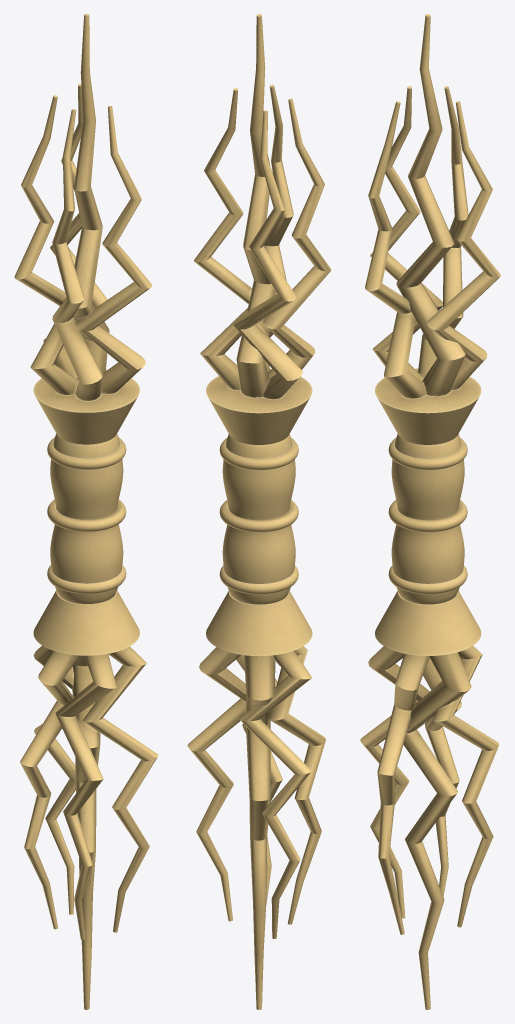
Rendered from thunderbolt.glb.
3 views of the same model, side by side, from view 1: azimuth 30°, elevation 25°; view 2: azimuth 210°, elevation 25°; view 3: azimuth 270°, elevation 25° (orthographic).
Visible parts, largest first — view 1: thunderbolt; view 2: thunderbolt; view 3: thunderbolt.
Part boxes in pixels (<box>): thunderbolt: <box>14,14,158,1009</box>; thunderbolt: <box>187,14,331,1009</box>; thunderbolt: <box>360,14,500,1009</box>.
Size of the model in its own units: 0.0854 by 0.7203 by 0.0923.
Materials: 1 (1 with a texture image).
